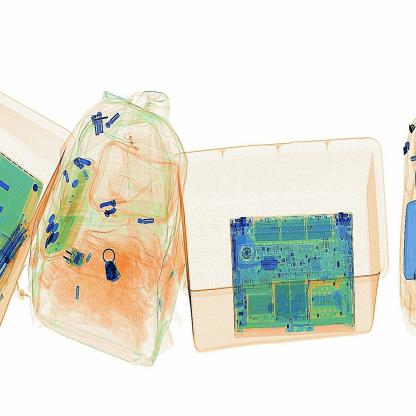scissors: (94, 243, 133, 293)
